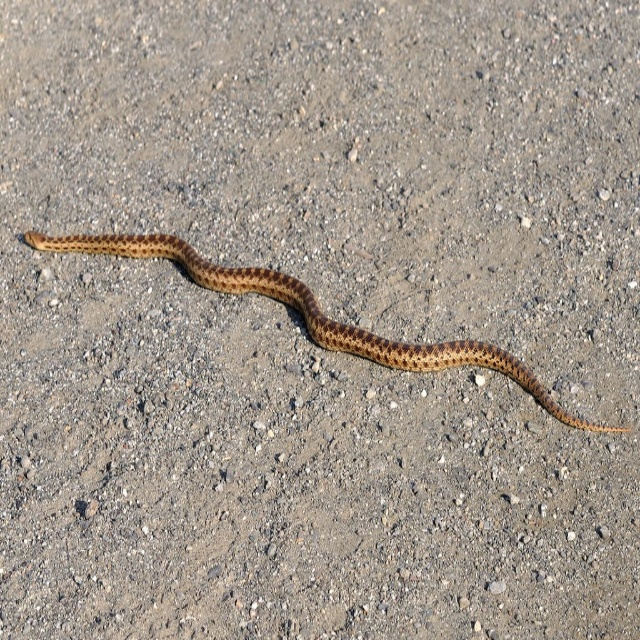Snake: (22, 230, 631, 431)
